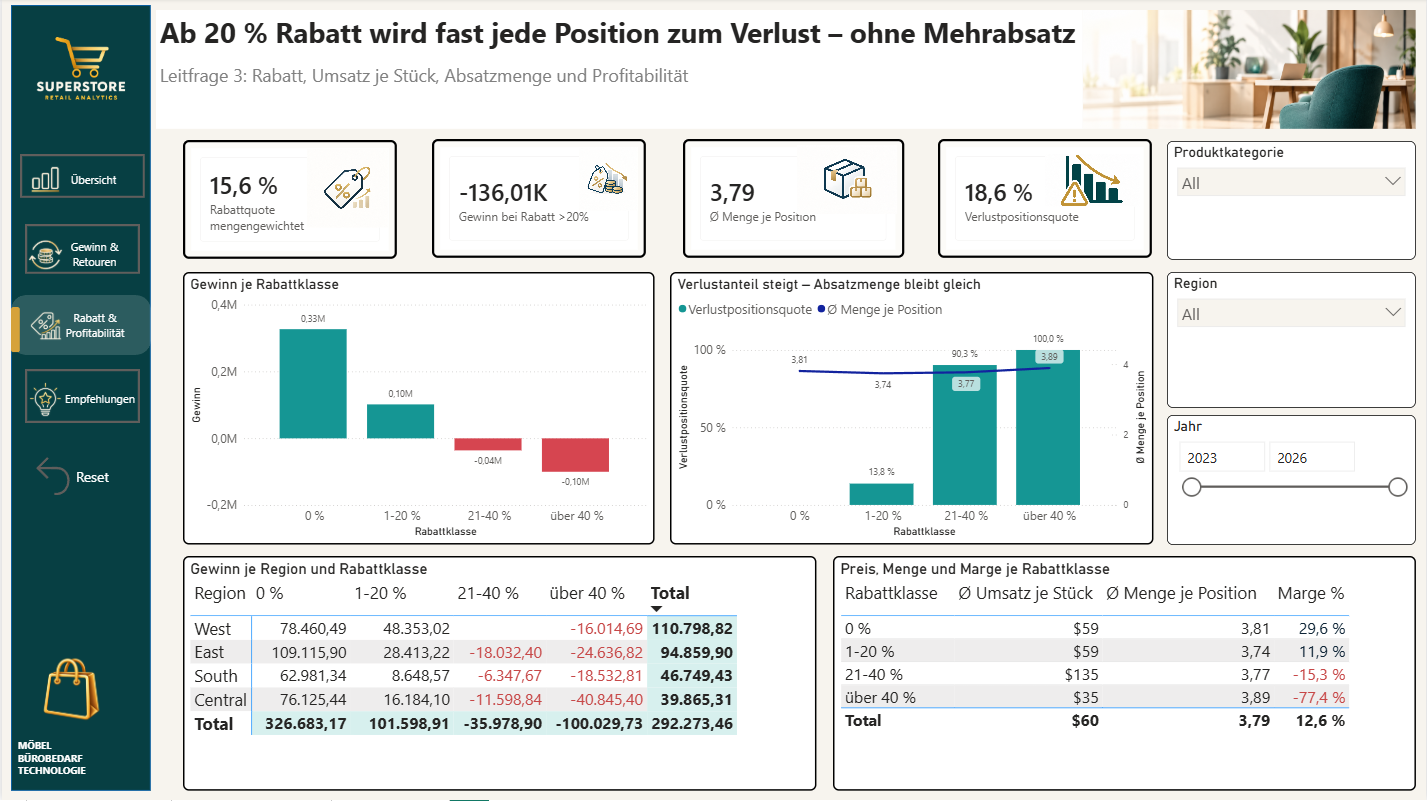

This screenshot's page, from the dashboard's own definition file:
{"tool":"powerbi","page":{"name":"Rabatt & Profitabilität","canvas":[1920,1080],"ordinal":2},"visuals":[{"type":"clusteredColumnChart","title":"Gewinn je Rabattklasse","fields":{"Category":["Fakt_Verkauf.Rabattklasse"],"Y":["_Kennzahlen1.Gewinn"]},"box":[243.6,368.6,634.7,367],"z":0},{"type":"lineClusteredColumnComboChart","title":"Verlustanteil steigt – Absatzmenge bleibt gleich  ","fields":{"Category":["Fakt_Verkauf.Rabattklasse"],"Y":["_Kennzahlen1.Verlustpositionsquote"],"Y2":["_Kennzahlen1.Ø Menge je Position"]},"box":[899.1,368.6,650.7,367],"z":1000},{"type":"pivotTable","title":"Gewinn je Region und Rabattklasse","fields":{"Columns":["Fakt_Verkauf.Rabattklasse"],"Rows":["Dim_Region.Region"],"Values":["_Kennzahlen1.Gewinn"]},"box":[243.6,751.7,852.6,315.7],"z":2000},{"type":"tableEx","title":"Preis, Menge und Marge je Rabattklasse","fields":{"Values":["Fakt_Verkauf.Rabattklasse","_Kennzahlen1.Ø Umsatz je Stück","_Kennzahlen1.Ø Menge je Position","_Kennzahlen1.Marge %"]},"box":[1118.7,751.7,785.3,315.7],"z":3000},{"type":"shape","box":[12,10,188,1058],"z":4000},{"type":"image","box":[12.1,10.8,188.5,162.9],"z":5000},{"type":"shape","box":[12.1,400,188.5,80.8],"z":6000},{"type":"image","box":[31,405.3,55,70],"z":7000},{"type":"shape","box":[12.1,499.6,188.5,80.8],"z":8000},{"type":"image","box":[31,505,55,70],"z":9000},{"type":"shape","box":[12.1,204.7,188.5,80.8],"z":10000},{"type":"image","box":[31,208.7,55.2,70],"z":11000},{"type":"shape","box":[12,416,12,61],"z":12000},{"type":"shape","box":[31,304.3,160.2,80.8],"z":13000},{"type":"image","box":[31,309.7,55,70],"z":14000},{"type":"image","box":[18.9,879.4,148.1,101],"z":15000},{"type":"textbox","box":[16,992,192,80],"z":16000},{"type":"textbox","box":[208,16,1248,160],"z":17000},{"type":"image","box":[1456,16,448,160],"z":18000},{"type":"cardVisual","fields":{"Data":["Kennzahlen.Ø Menge je Position"]},"box":[917,190.5,297.7,160.1],"z":19000},{"type":"cardVisual","fields":{"Data":["Kennzahlen.Verlustpositionsquote"]},"box":[1260.5,189.9,288.5,160.3],"z":20000},{"type":"image","box":[1404.7,209.9,126.6,70.5],"z":21000},{"type":"cardVisual","fields":{"Data":["Kennzahlen.Rabattquote mengengewichtet"]},"box":[243.9,191.5,288,160],"z":22000},{"type":"cardVisual","fields":{"Data":["Kennzahlen.Gewinn bei Rabatt >20%"]},"box":[579.6,190.5,288.5,160.1],"z":23000},{"type":"slicer","title":"Produktkategorie","fields":{"Values":["Dim_Produkt.First(Category)"]},"box":[1569,192.3,335,160.3],"z":24000},{"type":"slicer","title":"Jahr","fields":{"Values":["Dim_Date.Jahr"]},"box":[1568.8,561.5,335.3,175.1],"z":25000},{"type":"slicer","title":"Region","fields":{"Values":["Dim_Region.Region"]},"box":[1568.8,369,335.3,183.1],"z":26000},{"type":"image","box":[410.3,203.5,109,105.8],"z":27000},{"type":"image","box":[776.7,201.1,79.4,86],"z":28000},{"type":"image","box":[1070.1,198,134.7,92.9],"z":29000},{"type":"actionButton","box":[31,304.3,154.9,67.3],"z":29001},{"type":"actionButton","box":[31,499.6,154.9,72.7],"z":29003},{"type":"actionButton","box":[24.2,210.1,168.3,59.3],"z":29004},{"type":"actionButton","box":[35.8,610.9,149.7,64.9],"z":29005}]}

Visuals, with their boxes in screenshot pixels (x1, y1, x2, y2):
"Gewinn je Rabattklasse" clusteredColumnChart: 179,270,644,539
"Verlustanteil steigt – Absatzmenge bleibt gleich  " lineClusteredColumnComboChart: 659,270,1136,539
"Gewinn je Region und Rabattklasse" pivotTable: 179,551,803,782
"Preis, Menge und Marge je Rabattklasse" tableEx: 820,551,1396,782
shape: 9,7,147,783
image: 9,8,147,127
shape: 9,293,147,352
image: 23,297,63,348
shape: 9,366,147,425
image: 23,370,63,421
shape: 9,150,147,209
image: 23,153,63,204
shape: 9,305,18,350
shape: 23,223,140,282
image: 23,227,63,278
image: 14,645,122,719
textbox: 12,727,152,786
textbox: 152,12,1067,129
image: 1067,12,1396,129
cardVisual - Kennzahlen.Ø Menge je Position: 672,140,890,257
cardVisual - Kennzahlen.Verlustpositionsquote: 924,139,1135,257
image: 1030,154,1122,206
cardVisual - Kennzahlen.Rabattquote mengengewichtet: 179,140,390,258
cardVisual - Kennzahlen.Gewinn bei Rabatt >20%: 425,140,636,257
"Produktkategorie" slicer: 1150,141,1396,258
"Jahr" slicer: 1150,412,1396,540
"Region" slicer: 1150,270,1396,405
image: 301,149,381,227
image: 569,147,627,210
image: 784,145,883,213
actionButton: 23,223,136,272
actionButton: 23,366,136,419
actionButton: 18,154,141,197
actionButton: 26,448,136,495
